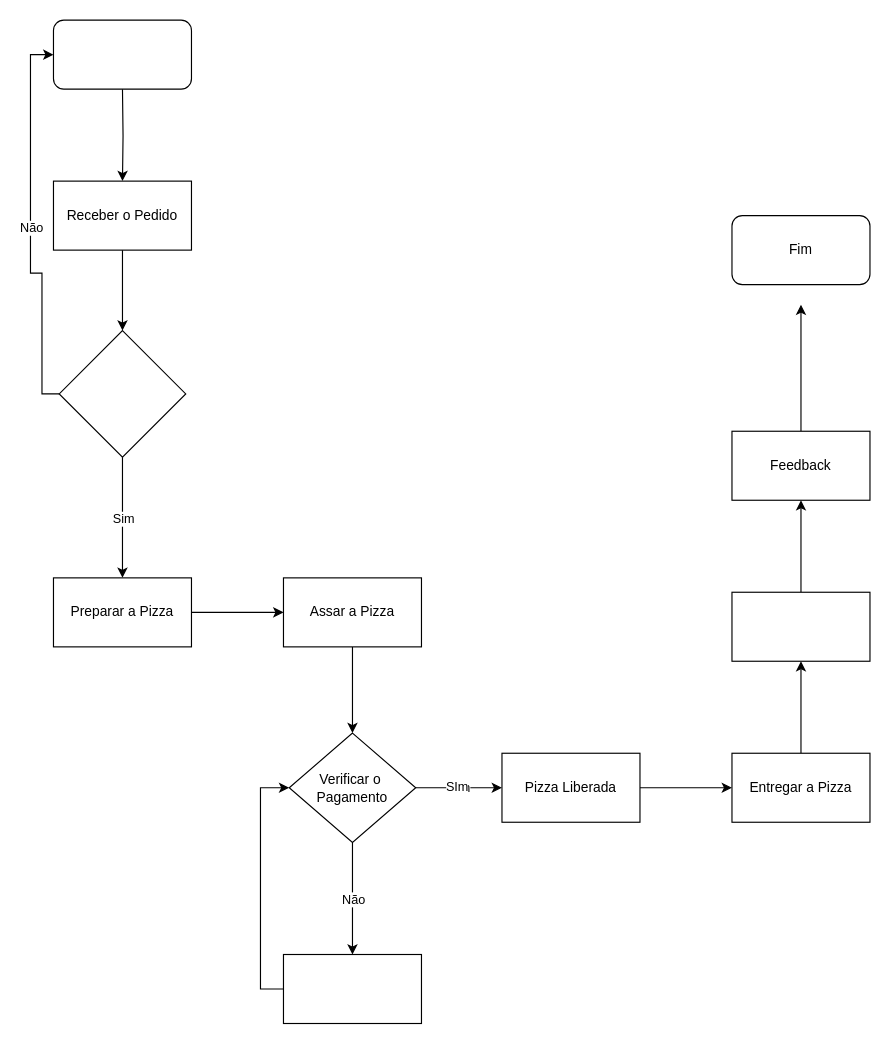
Image size: 890x1044. Some labels were removed from this diagram. Each missing label, with the centre of its shape:
Concluir Pagamento: [351,988]
Inicio: [121,54]
Nota Fiscal: [800,626]
Verificar o estoque: [122,393]
